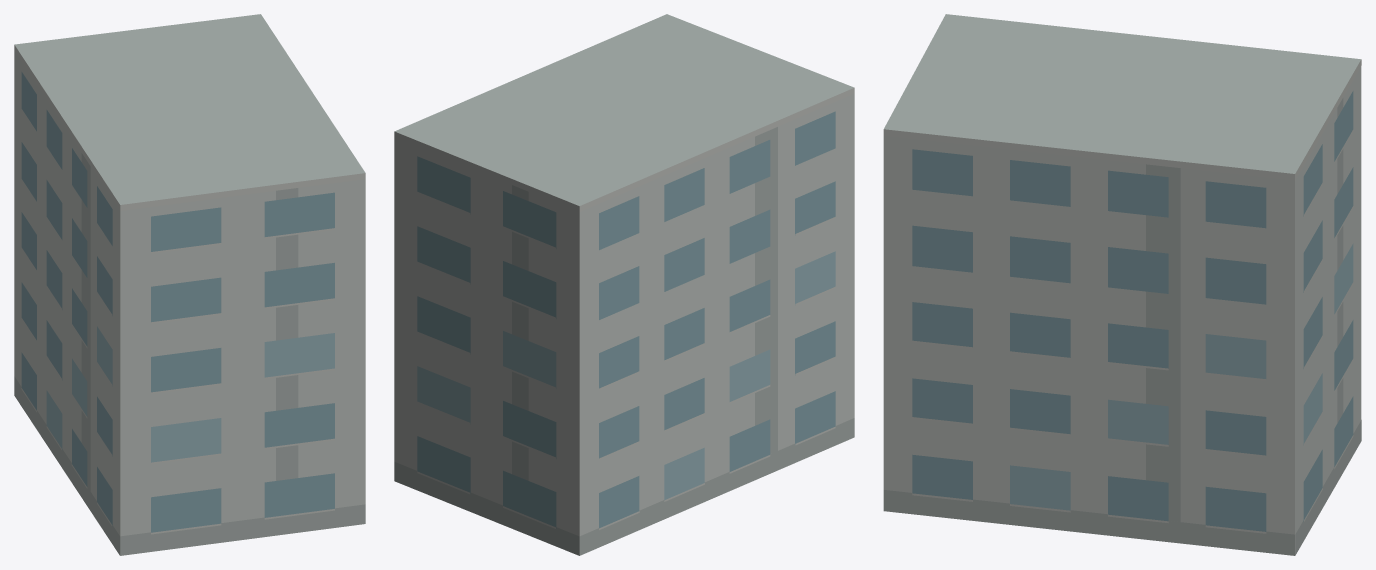
The model's file is survey-upis-32885880.glb.
3 views of the same model, side by side, from view 1: azimuth 30°, elevation 25°; view 2: azimuth 150°, elevation 25°; view 3: azimuth 270°, elevation 25° (orthographic). The views are drawn at different scales.
Parts seen in each view (by area): view 1: survey-upis-32885880.tmp; view 2: survey-upis-32885880.tmp; view 3: survey-upis-32885880.tmp.
Boxes of the visible parts, x1,y1,x2,y2 form: survey-upis-32885880.tmp: (14, 14, 365, 555); survey-upis-32885880.tmp: (394, 14, 854, 555); survey-upis-32885880.tmp: (883, 14, 1361, 555).
Size of the model in its own units: 12.68 by 14.1 by 16.
